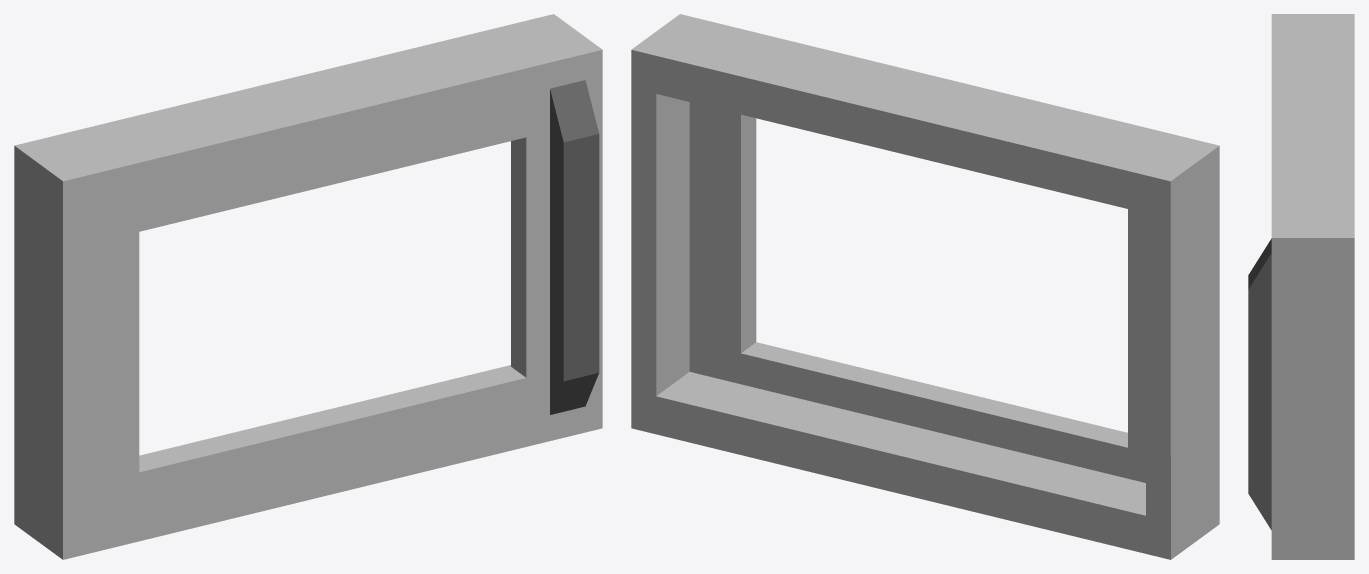
The model's file is Itr_Obj_Microwave_Door_01.FBX.
The picture shows the model from 3 angles, left to right: view 1: azimuth 30°, elevation 25°; view 2: azimuth 150°, elevation 25°; view 3: azimuth 270°, elevation 25°; orthographic projection. The views are drawn at different scales.
Parts seen in each view (by area): view 1: Itr_Obj_Microwave_Door_01; view 2: Itr_Obj_Microwave_Door_01; view 3: Itr_Obj_Microwave_Door_01.
Part boxes in pixels (<box>): Itr_Obj_Microwave_Door_01: <box>14,14,602,559</box>; Itr_Obj_Microwave_Door_01: <box>631,14,1219,559</box>; Itr_Obj_Microwave_Door_01: <box>1248,14,1354,559</box>.
Size of the model in its own units: 21.27 by 14.26 by 4.28.
